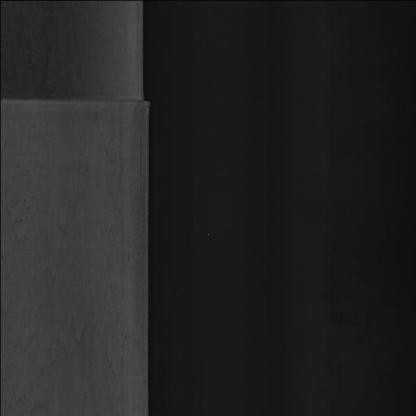welding_line: (0, 83, 155, 113)
